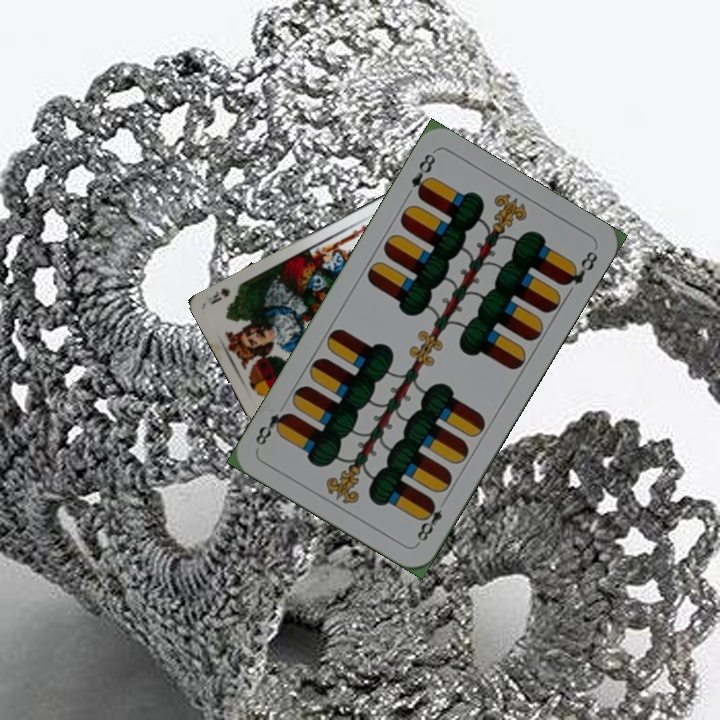E8: (412, 496, 446, 547), (406, 149, 438, 202)
